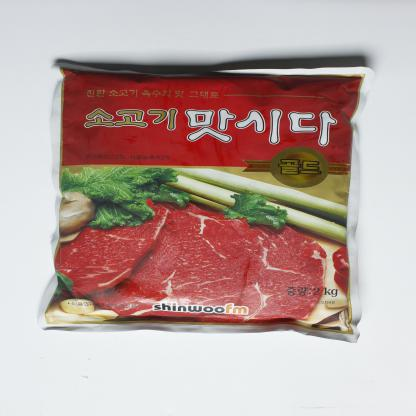beef: (123, 212, 262, 300)
